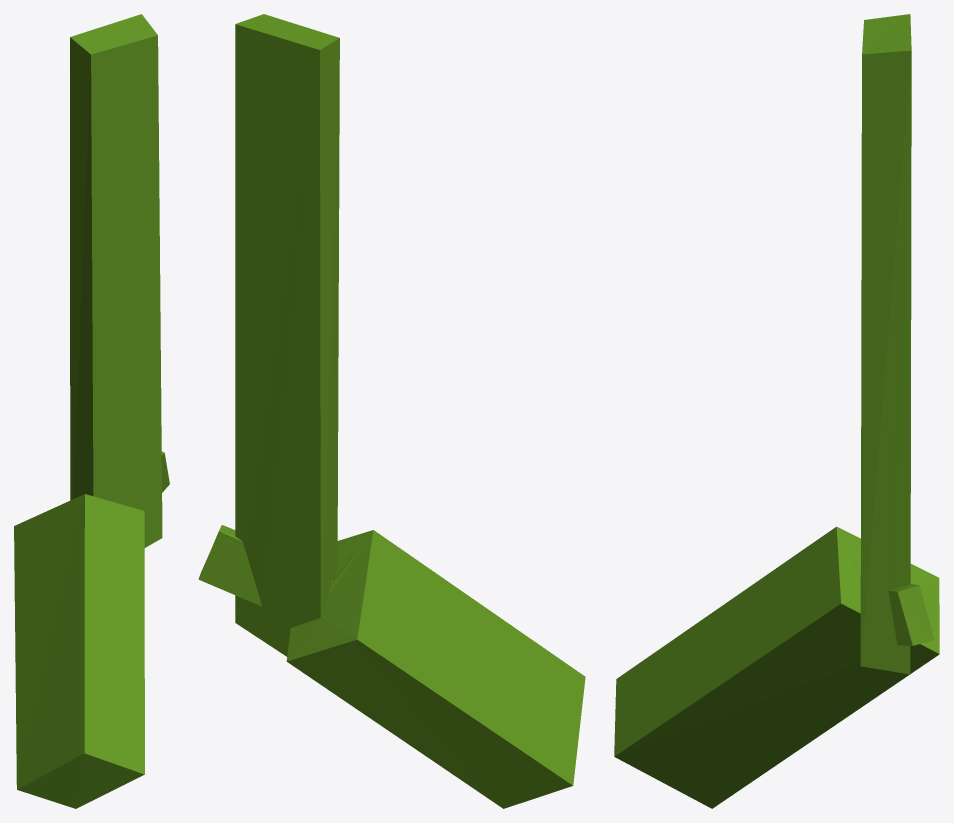
3 renders of one model, left to right at view 1: azimuth 30°, elevation 25°; view 2: azimuth 150°, elevation 25°; view 3: azimuth 270°, elevation 25°, orthographic. The views are drawn at different scales.
Visible parts, largest first — view 1: 022_Cube.100; view 2: 022_Cube.100; view 3: 022_Cube.100.
Boxes of the visible parts, x1,y1,x2,y2 form: 022_Cube.100: [14, 14, 169, 808]; 022_Cube.100: [198, 14, 585, 808]; 022_Cube.100: [614, 14, 939, 808].
Bounding box in the file's own units: 5.65 × 15.96 × 5.57.
